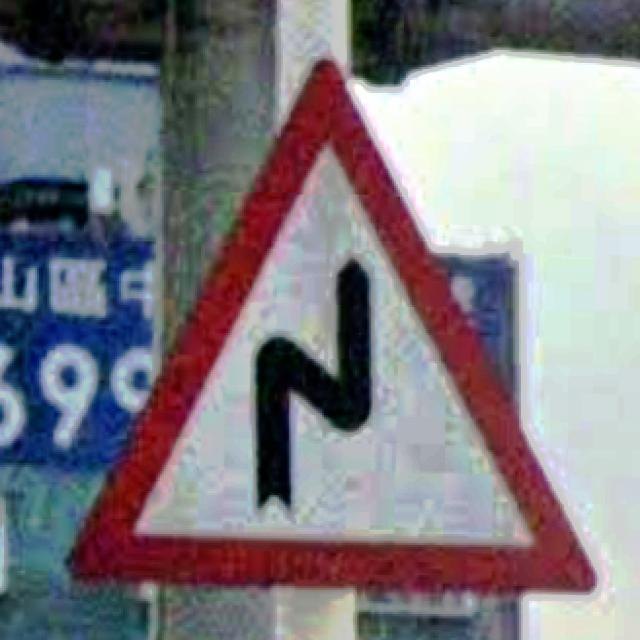doublebendright: (62, 58, 599, 595)
